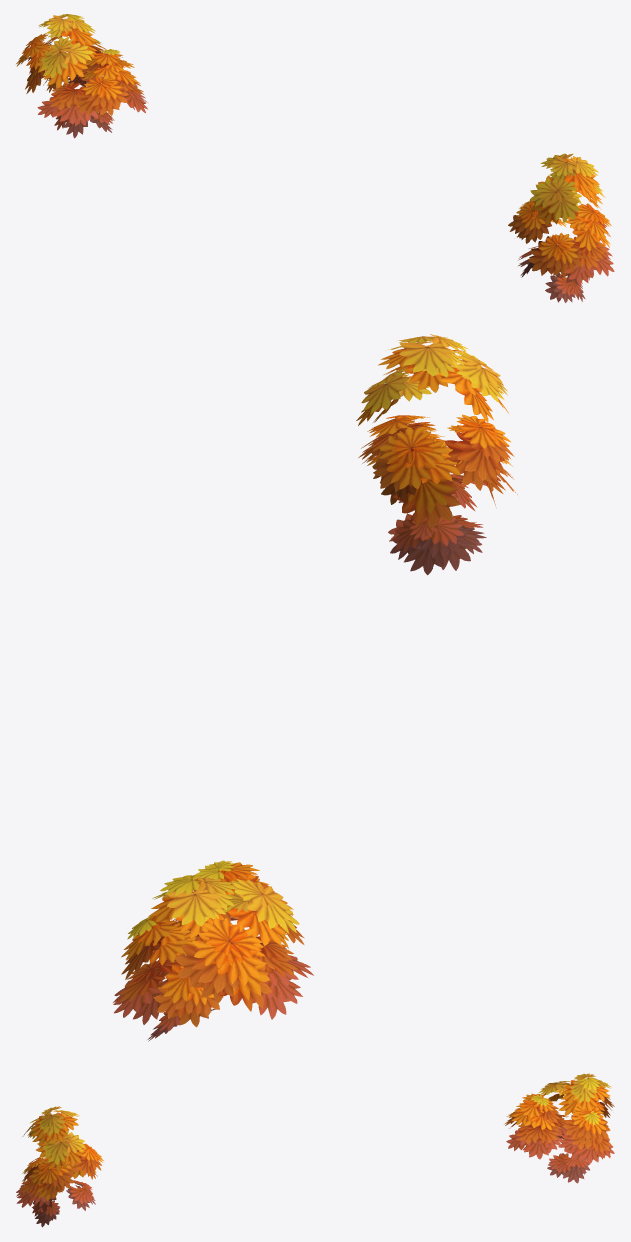
3 views of the same model, one above another, from view 1: azimuth 30°, elevation 25°; view 2: azimuth 150°, elevation 25°; view 3: azimuth 270°, elevation 25° (orthographic). The views are drawn at different scales.
Visible parts, largest first — view 1: island_leaves; view 2: island_leaves; view 3: island_leaves.
Part boxes in pixels (x1=…): island_leaves: x1=16, y1=14, x2=614, y2=302; island_leaves: x1=113, y1=334, x2=517, y2=1041; island_leaves: x1=16, y1=1073, x2=614, y2=1227.
Bounding box in the file's own units: 8.67 × 4.97 × 20.43.
1 material, 1 textured.
